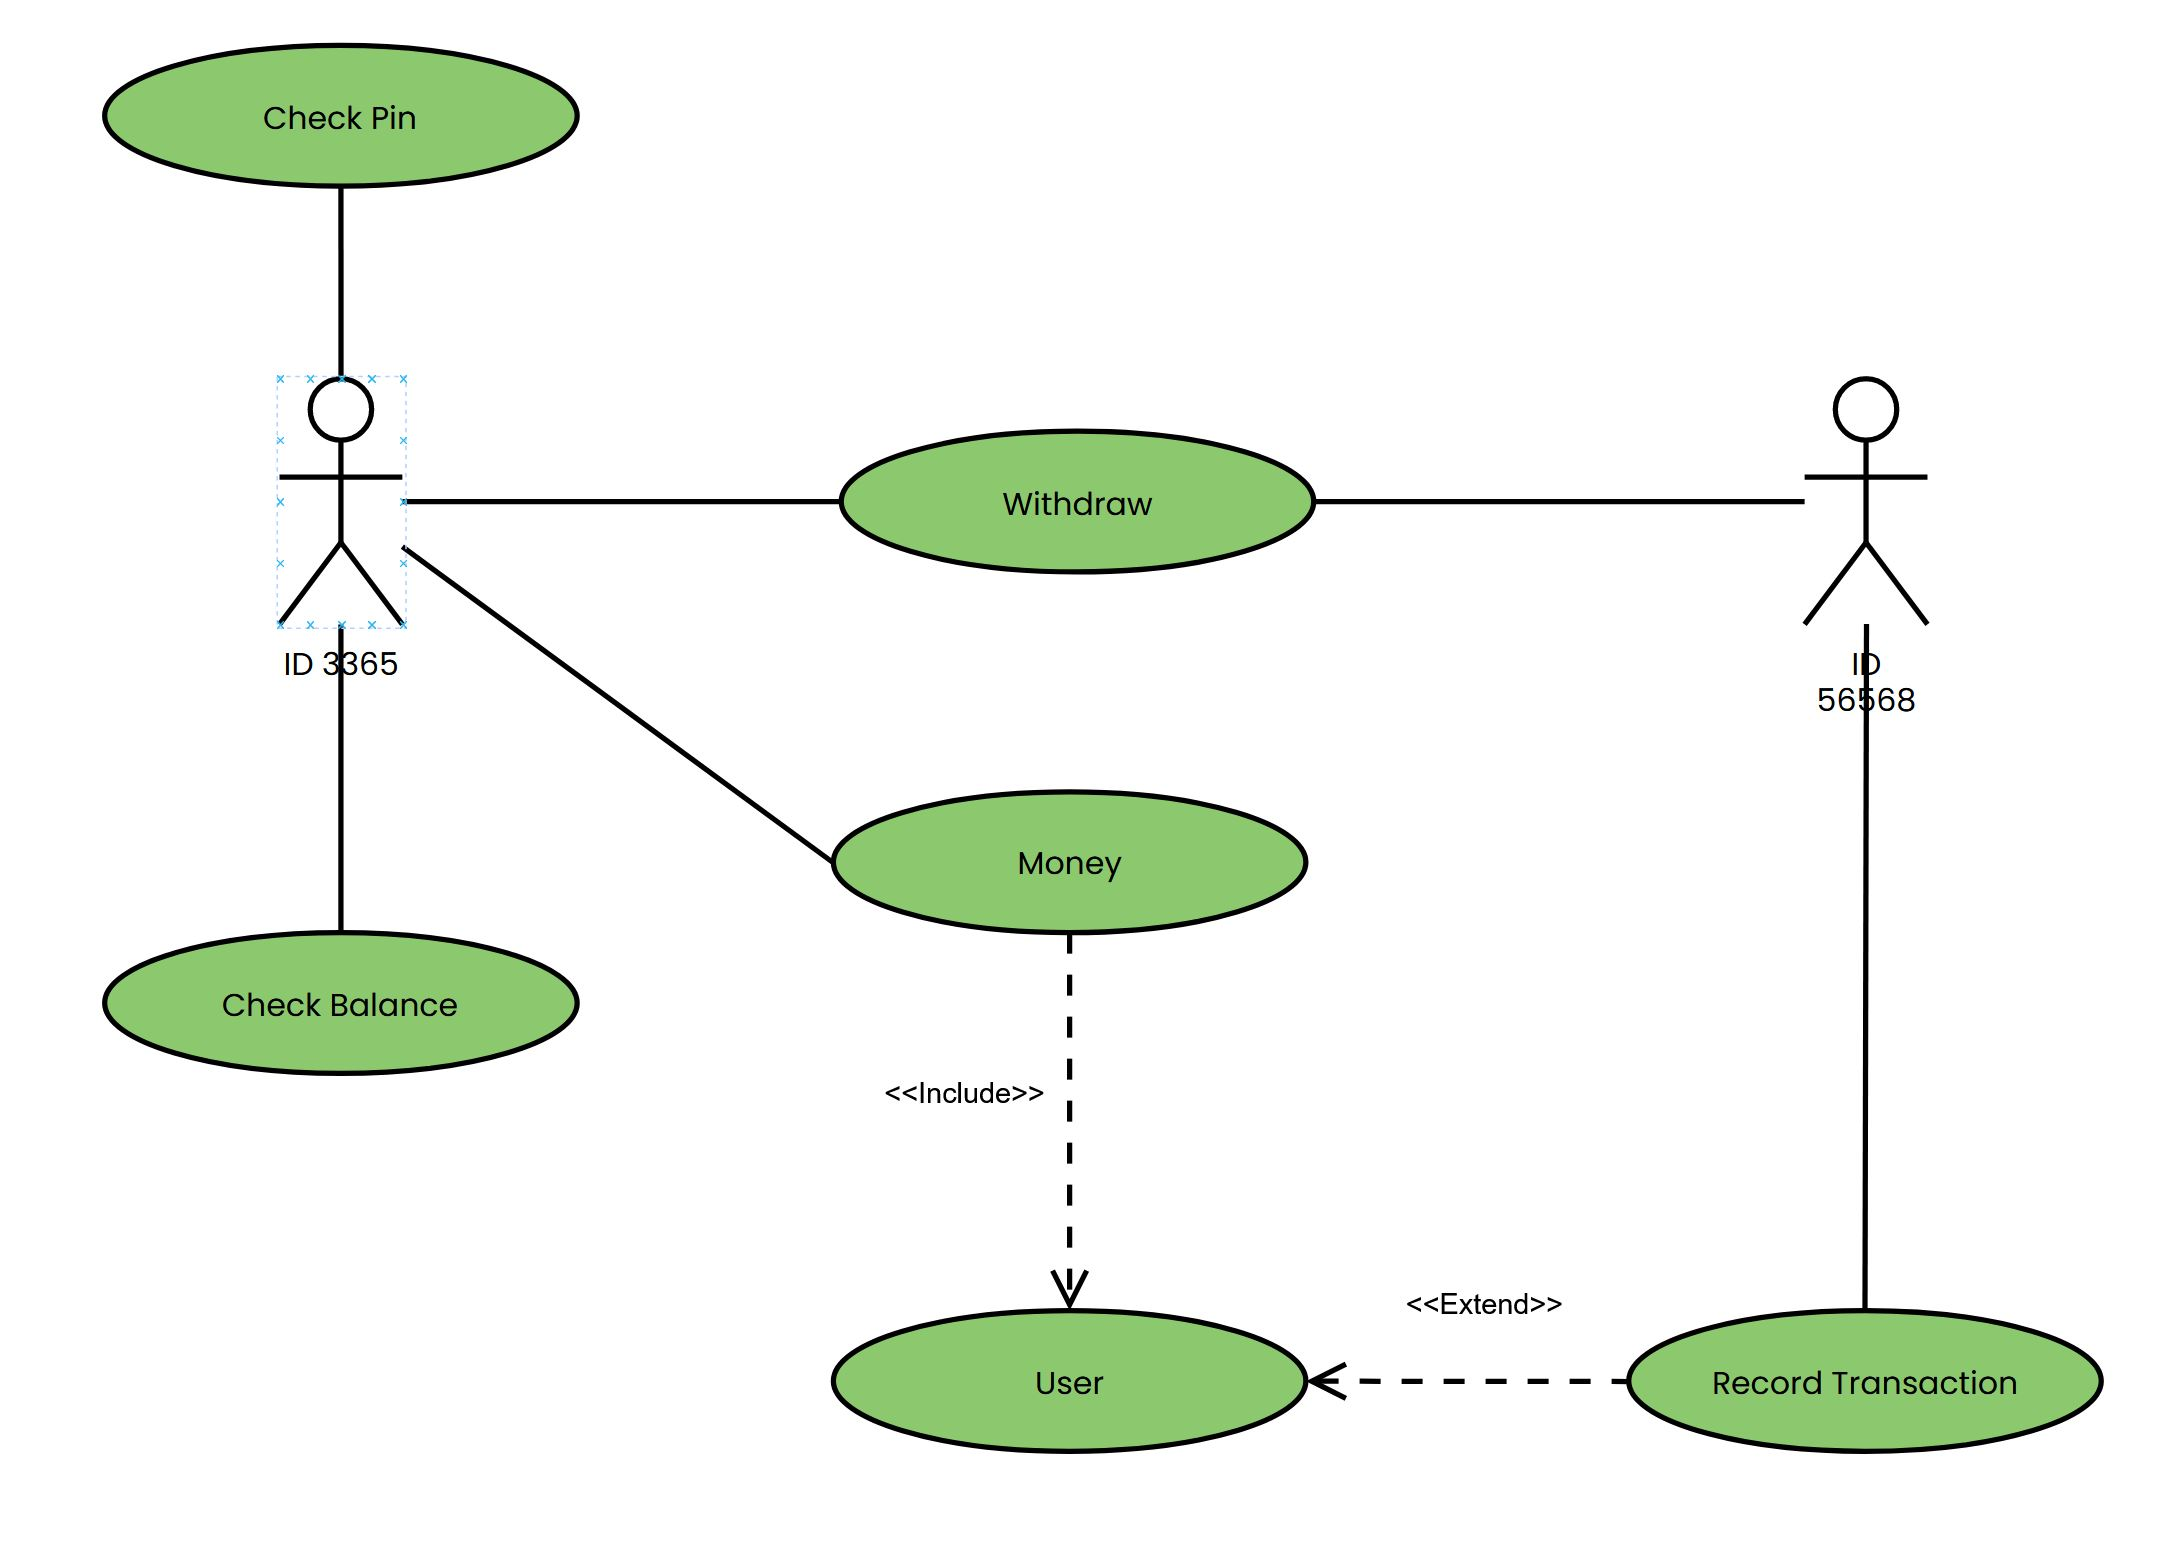actor: (257, 366, 407, 631), (1804, 372, 1941, 635)
association: (411, 548, 827, 858), (1825, 628, 1904, 1304), (1316, 461, 1800, 534), (411, 473, 842, 538), (1044, 938, 1101, 1304), (317, 635, 367, 927), (311, 185, 372, 372)
text: (1703, 1354, 2026, 1418), (205, 972, 479, 1034), (1408, 1277, 1595, 1339), (877, 1065, 1049, 1121), (256, 92, 438, 142), (1795, 651, 1932, 716), (1010, 827, 1132, 888), (1000, 486, 1176, 526), (271, 641, 402, 686), (1010, 1364, 1131, 1399)
use_case: (104, 925, 590, 1085), (825, 1303, 1311, 1463), (835, 424, 1318, 581), (99, 38, 585, 194), (1632, 1303, 2108, 1460), (828, 787, 1311, 938)
